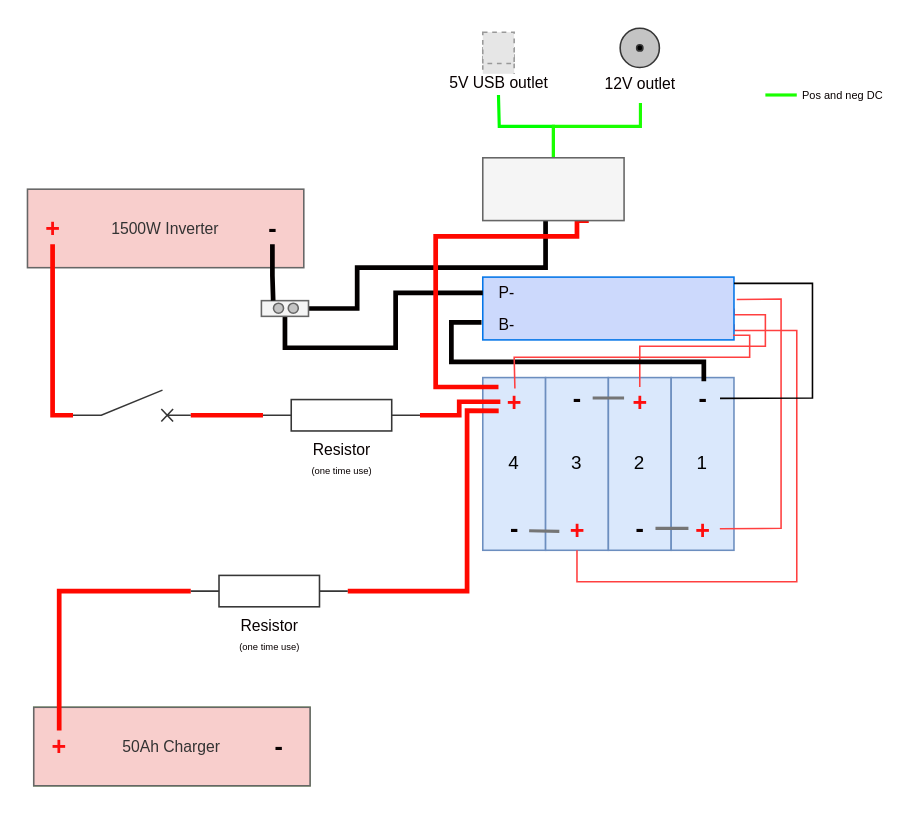
This 909x813 diagram has some shape labels left out. Grey dashed boxes stand in for pictures. The shapes that lost their labels are listed below. From the top down, each one's box as (x1, y1, x2, y2) in pixels, then its label:
(481, 156, 624, 221): 12V junction/fuse box
(481, 276, 734, 340): Daly 200A BMS
(71, 389, 191, 422): 250Ah Circuit Breaker/Inline Fuse
